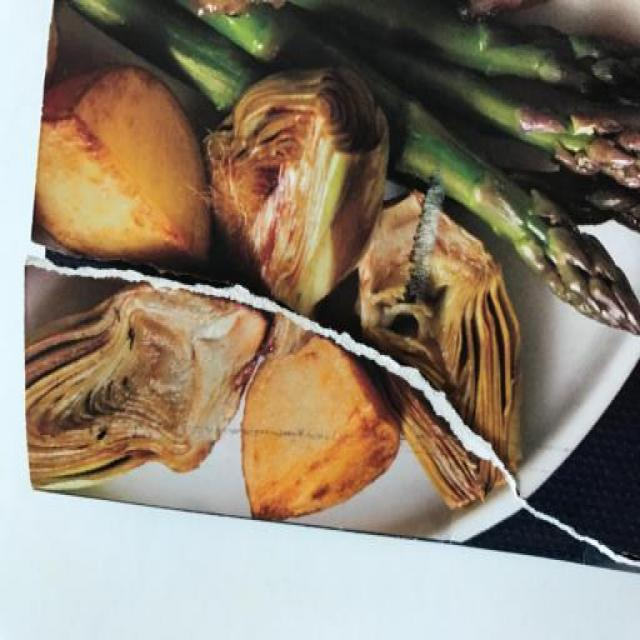food_waste: (28, 1, 640, 562)
